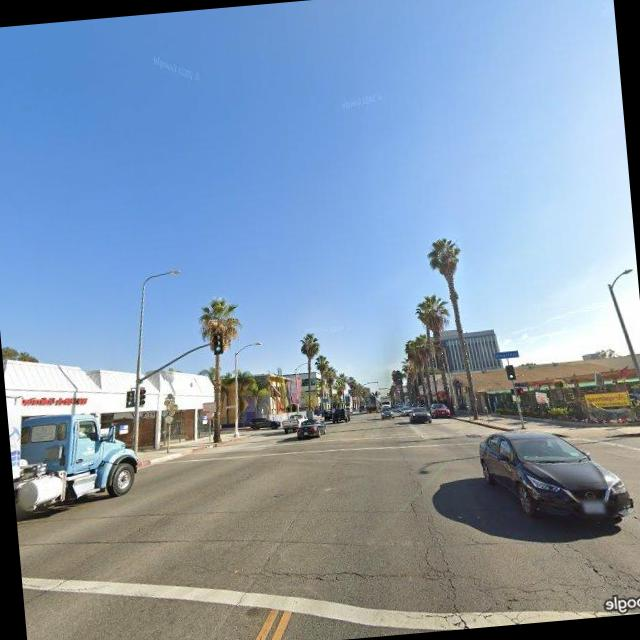crack: (435, 519, 640, 617)
